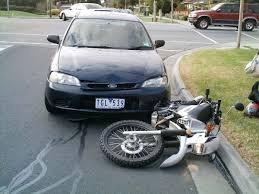Dent: (77, 63, 148, 88)
